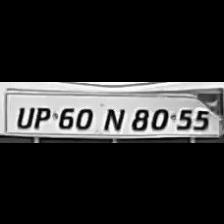0: (73, 104, 95, 130), (149, 104, 171, 130)
5: (191, 106, 211, 130), (174, 104, 192, 130)
6: (54, 103, 74, 129)
8: (128, 104, 150, 130)
N: (100, 104, 126, 130)
P: (29, 104, 51, 128)
U: (13, 101, 32, 128)
